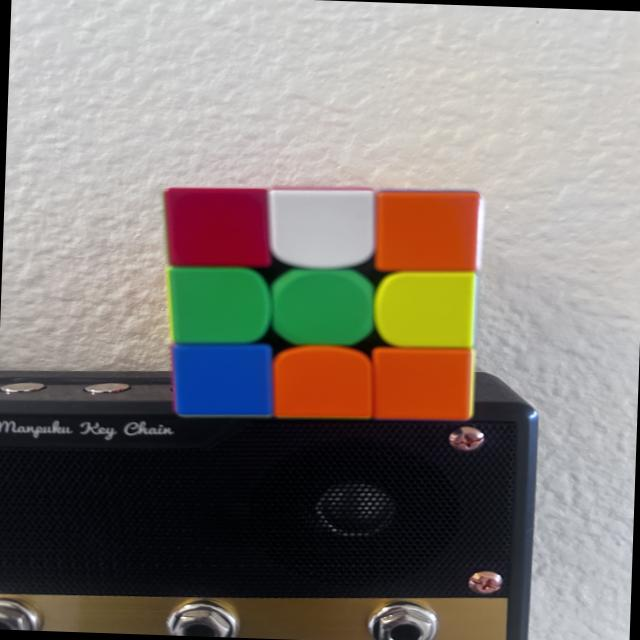sticker: (160, 185, 276, 274), (264, 186, 379, 273), (371, 188, 483, 277), (165, 264, 273, 348), (270, 266, 378, 350), (372, 269, 478, 352), (269, 343, 378, 422), (369, 345, 476, 425), (168, 341, 274, 420)
